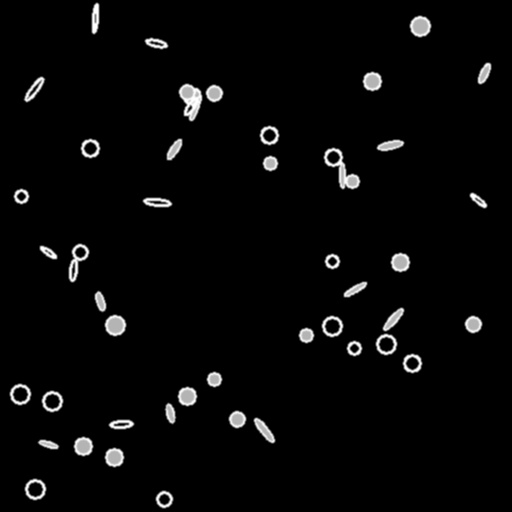pseudomonas: (23, 76, 45, 102), (253, 417, 275, 443), (382, 307, 404, 331), (165, 138, 183, 160), (343, 281, 367, 297), (182, 96, 200, 116), (476, 62, 492, 84), (188, 96, 202, 120), (378, 139, 402, 151), (469, 192, 487, 208), (145, 37, 167, 49), (39, 245, 57, 259), (94, 291, 106, 311), (91, 3, 99, 33), (68, 259, 78, 281), (144, 198, 170, 206), (165, 403, 175, 423), (109, 420, 133, 428), (39, 439, 57, 449), (339, 162, 345, 188)
synechocystis: (11, 385, 29, 403), (26, 480, 44, 498), (43, 392, 61, 410), (377, 335, 395, 353), (411, 17, 429, 35), (323, 317, 341, 335), (106, 316, 124, 334), (404, 355, 420, 371), (179, 388, 195, 404), (184, 88, 200, 104), (392, 254, 408, 270), (82, 140, 98, 156), (106, 449, 122, 465), (325, 149, 341, 165), (261, 127, 277, 143), (364, 73, 380, 89), (75, 438, 91, 454), (180, 85, 194, 99), (207, 86, 221, 100), (157, 492, 171, 506), (466, 317, 480, 331), (230, 412, 244, 426), (73, 245, 87, 259), (208, 373, 220, 385), (346, 175, 358, 187), (15, 190, 27, 202), (326, 255, 338, 267), (348, 342, 360, 354), (300, 329, 312, 341), (264, 157, 276, 169)
